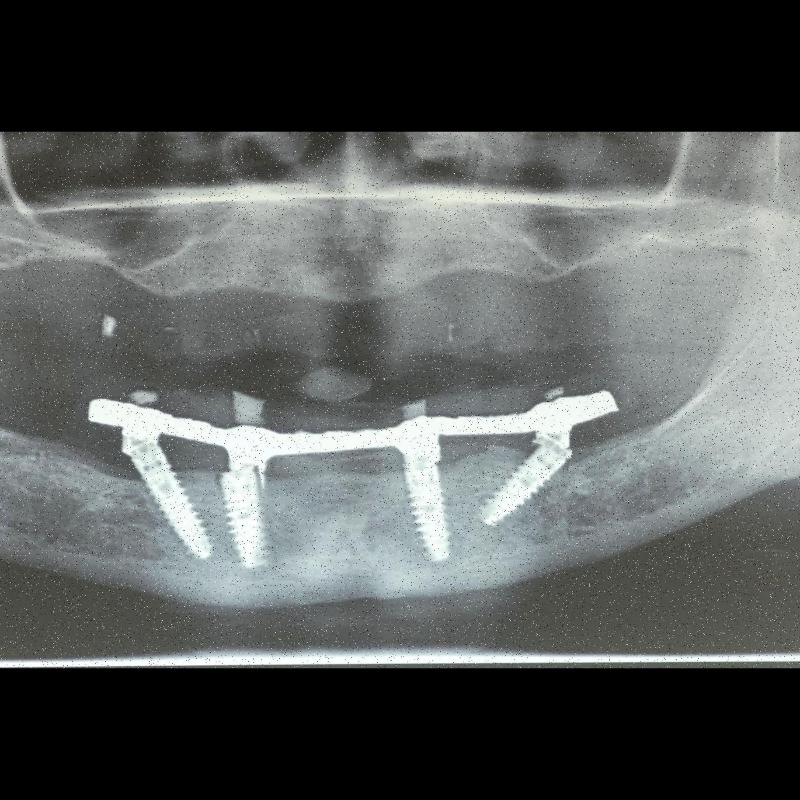MIS: (123, 441, 215, 562), (476, 439, 568, 542), (216, 468, 274, 574), (404, 462, 454, 568)
